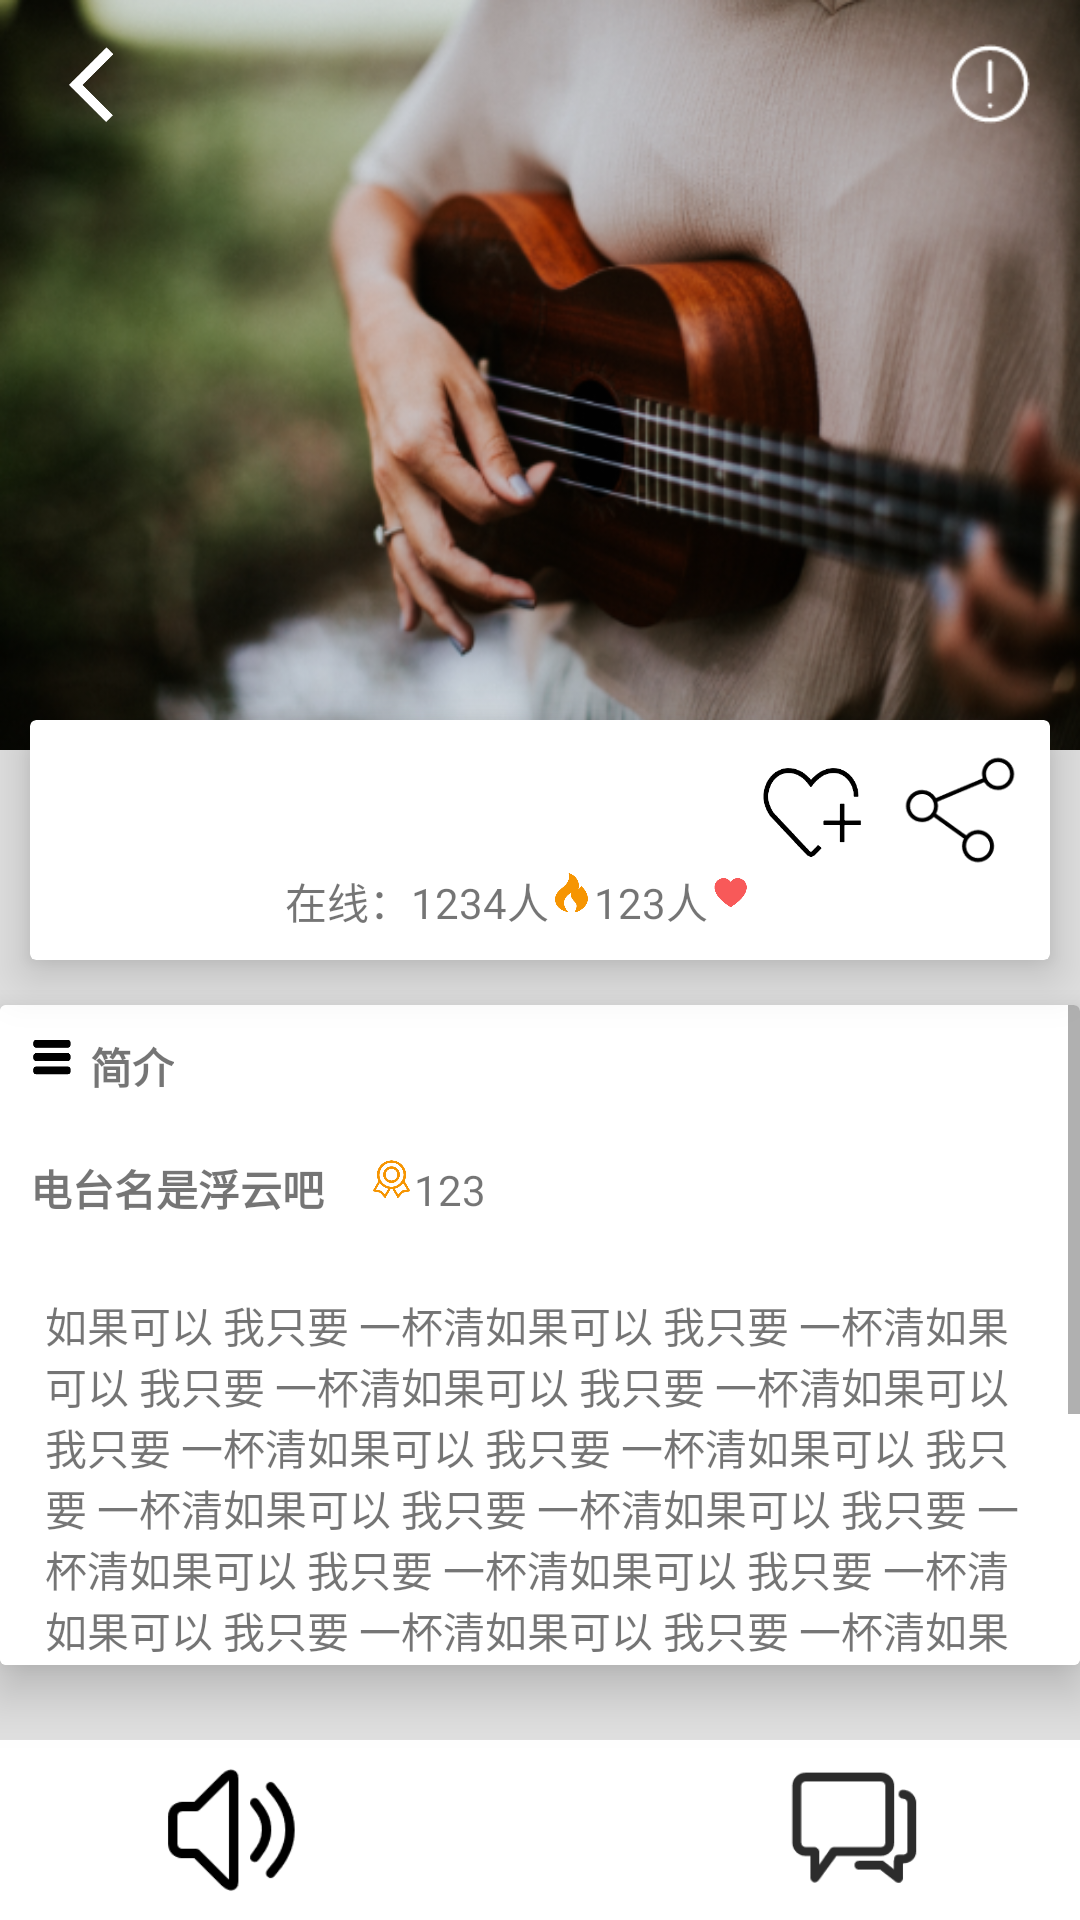

Point at icon controls on the screen. Image size 1080 x 1920, points as [x,y].
credit: [391,1179]
mark: [812,812]
marked: [730,892]
report: [990,84]
share: [960,810]
soundlevel: [231,1830]
